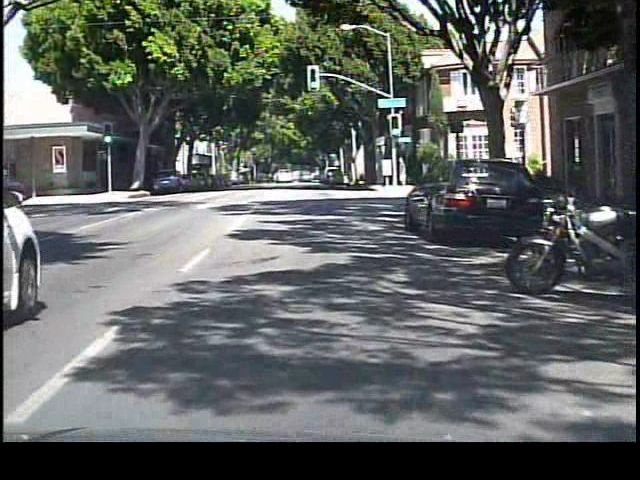person: (394, 156, 411, 191)
